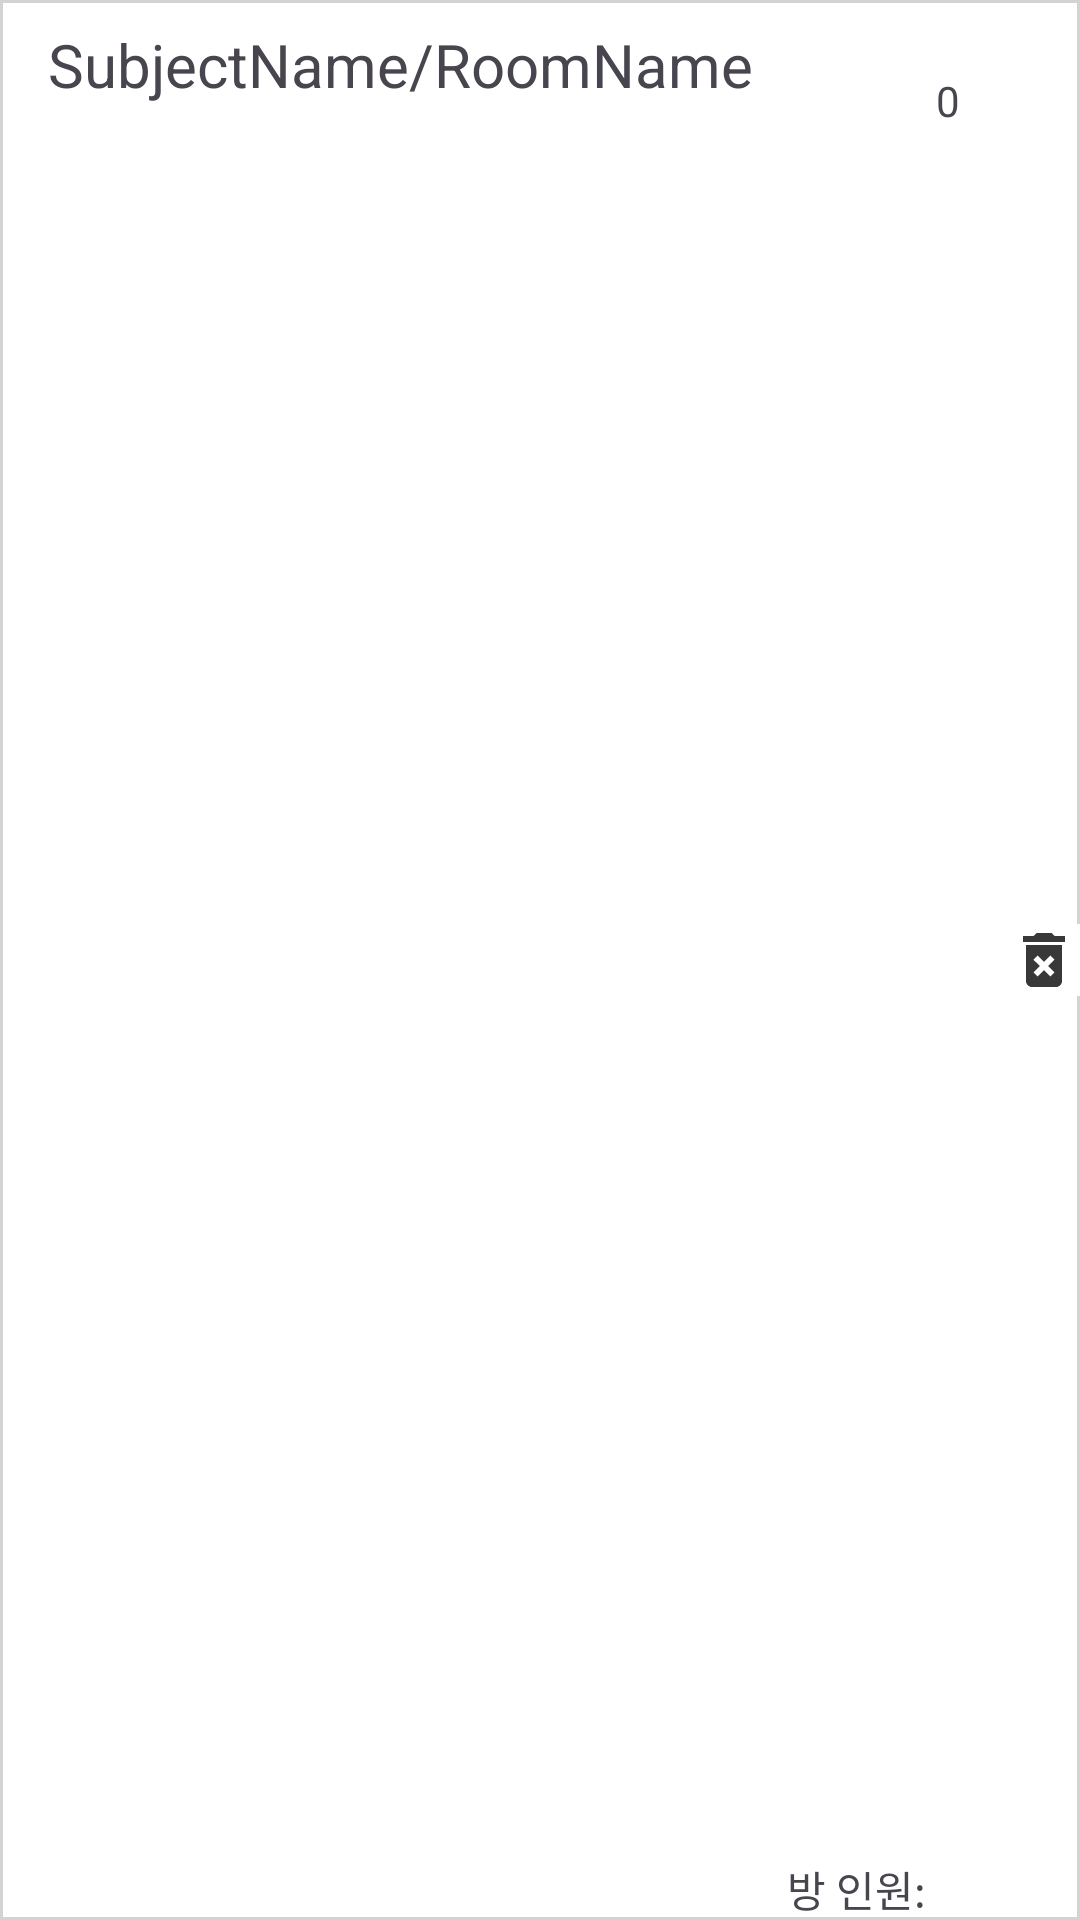

Locate icon controls on the screen. Image size 1080 x 1920, boxes as box=[x1, y1, x2, y2].
trashcan: box=[1023, 933, 1065, 987]
